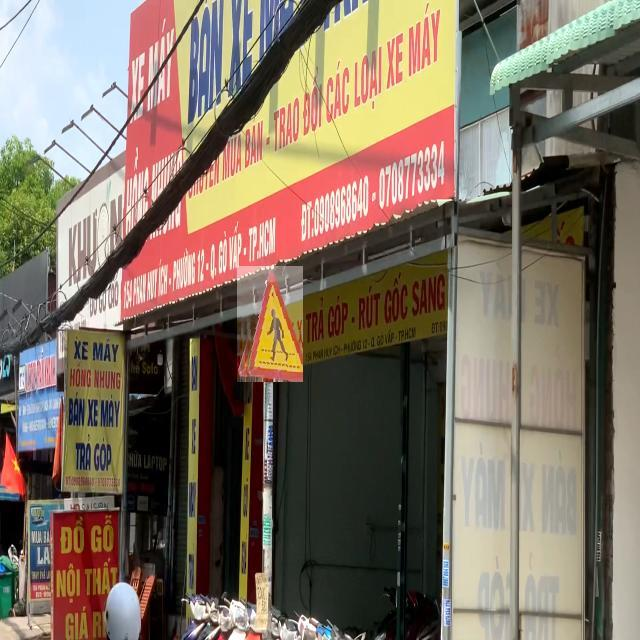W-224: (237, 266, 303, 382)
